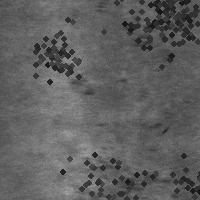rolled-in_scale: (87, 0, 200, 81), (55, 133, 161, 200), (113, 0, 200, 74), (14, 14, 94, 94), (84, 151, 178, 199), (138, 134, 200, 200), (130, 0, 200, 51), (96, 114, 169, 149), (66, 65, 132, 98), (122, 21, 153, 49)
